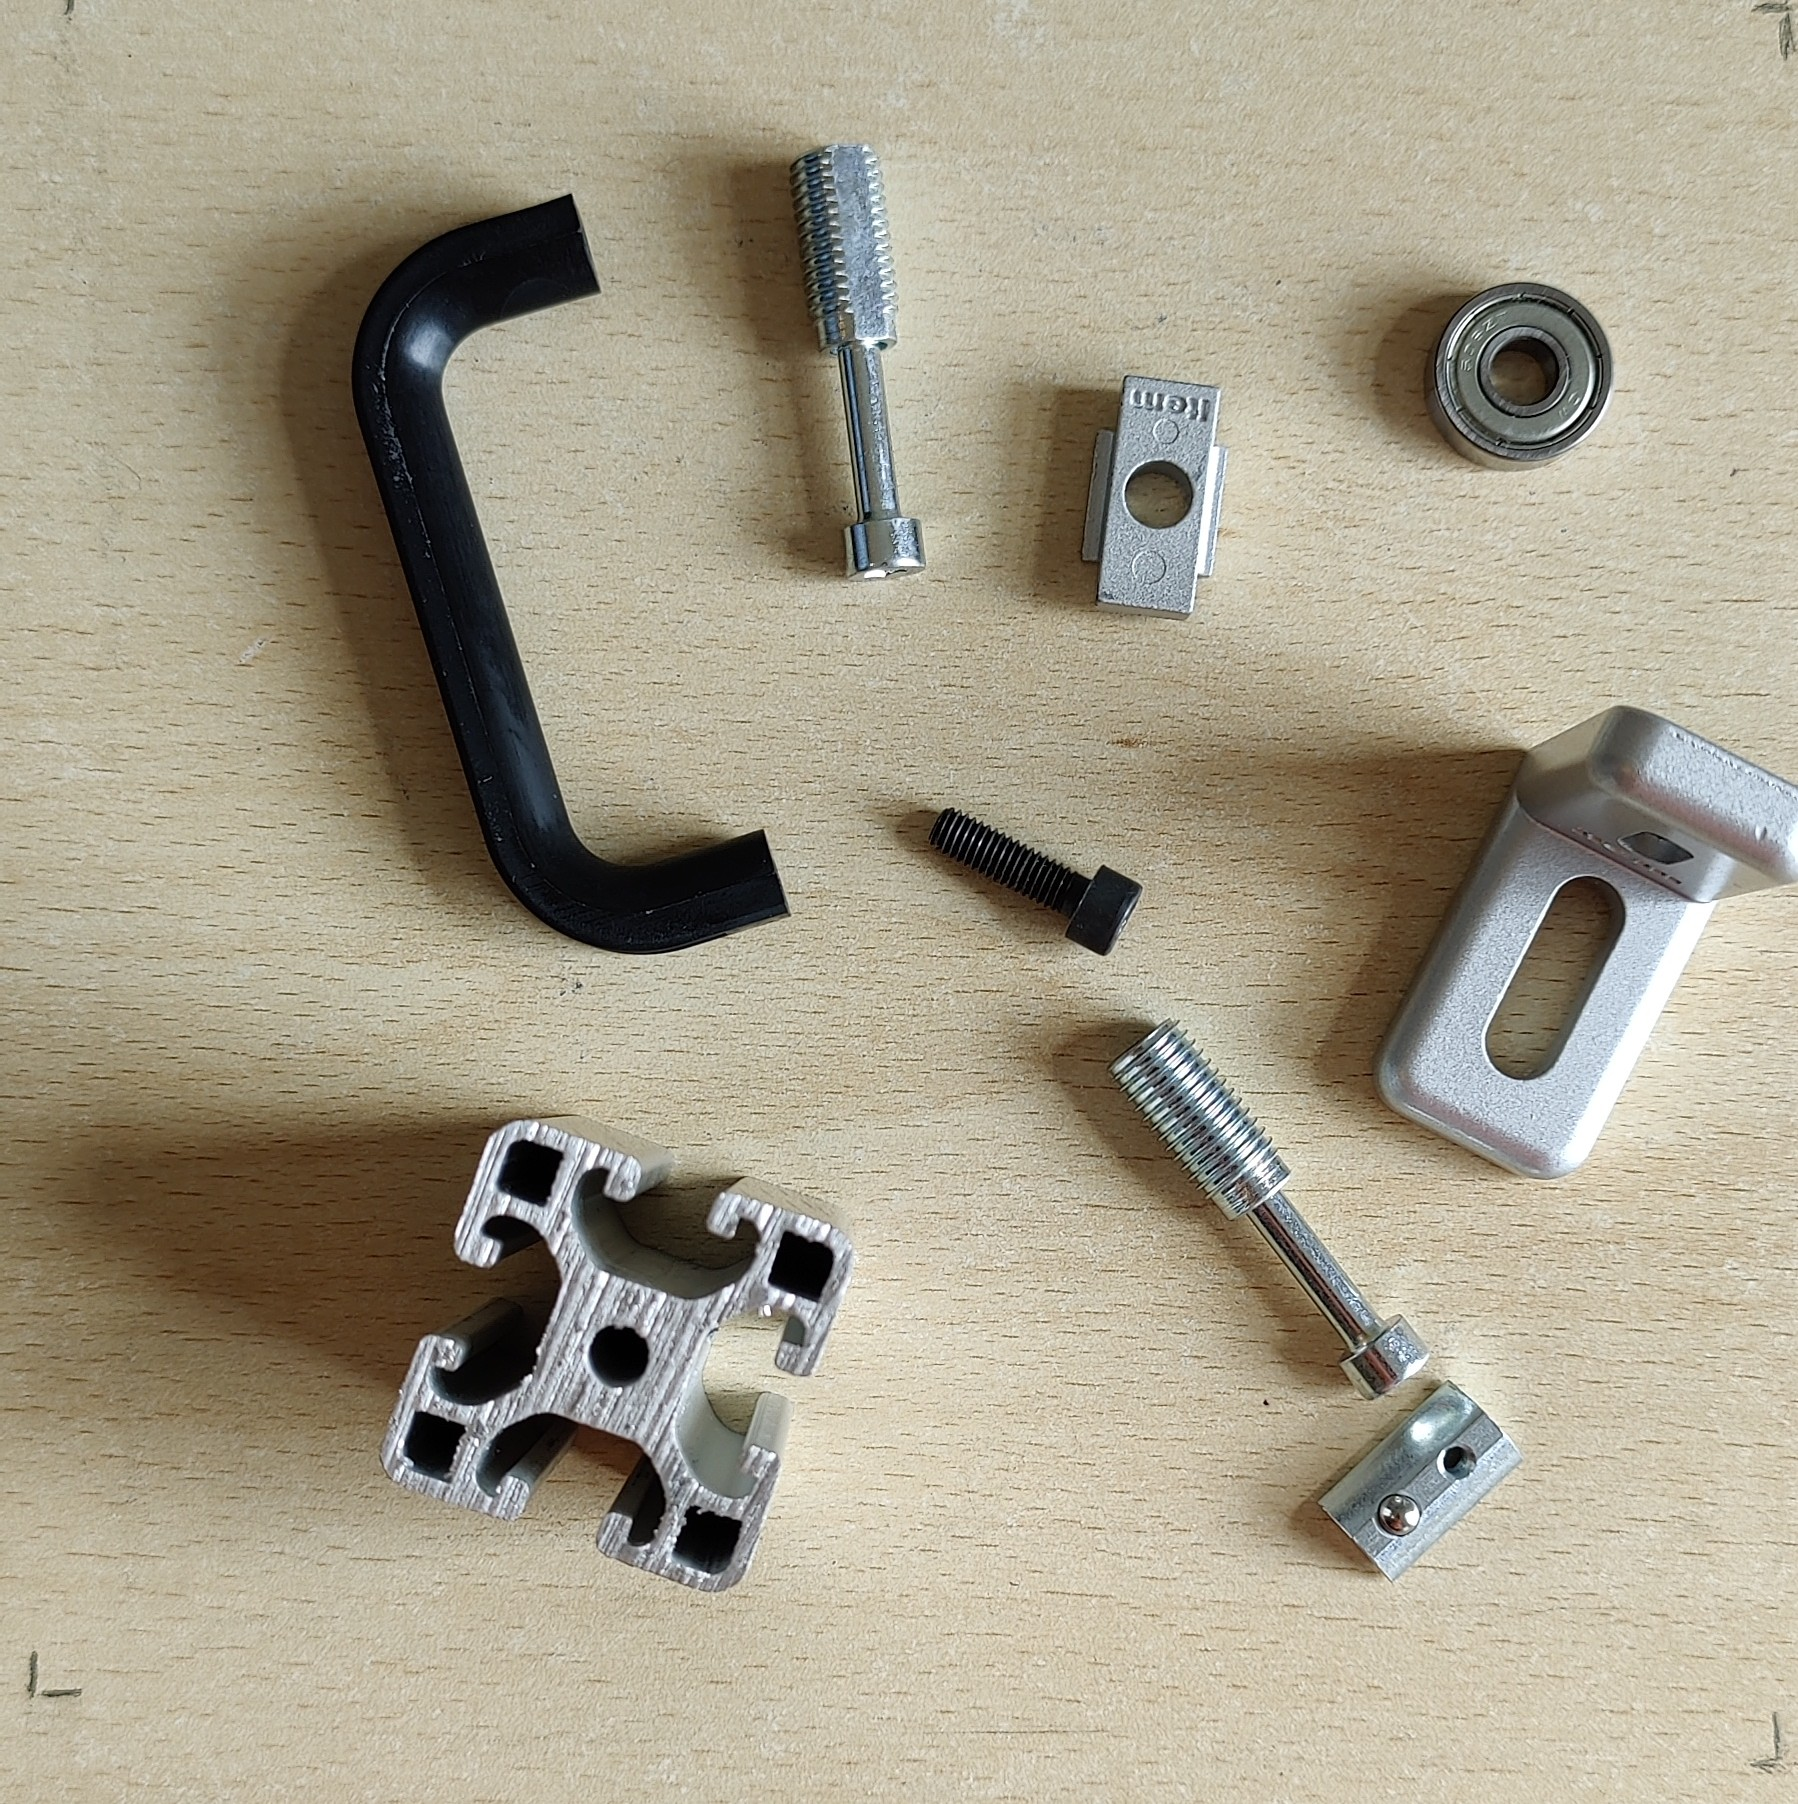Aluminium Extension: (379, 1111, 856, 1593)
Ball Bearing: (1424, 280, 1617, 472)
Multiwinkel: (1373, 703, 1798, 1182)
Pull Handle: (347, 188, 794, 956)
Shoulder Socket Head Cap Screw: (1103, 1016, 1432, 1404), (784, 140, 930, 584)
Socket Head Cap Screw: (922, 803, 1144, 960)
T Nut Square: (1077, 367, 1232, 622)
T Spring Nut: (1314, 1378, 1525, 1585)
